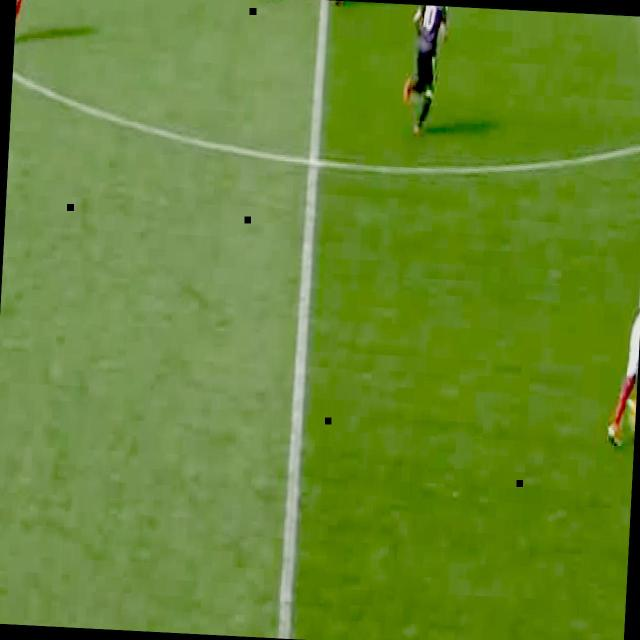player-white: (602, 227, 640, 458), (400, 4, 449, 138), (14, 0, 41, 40)
